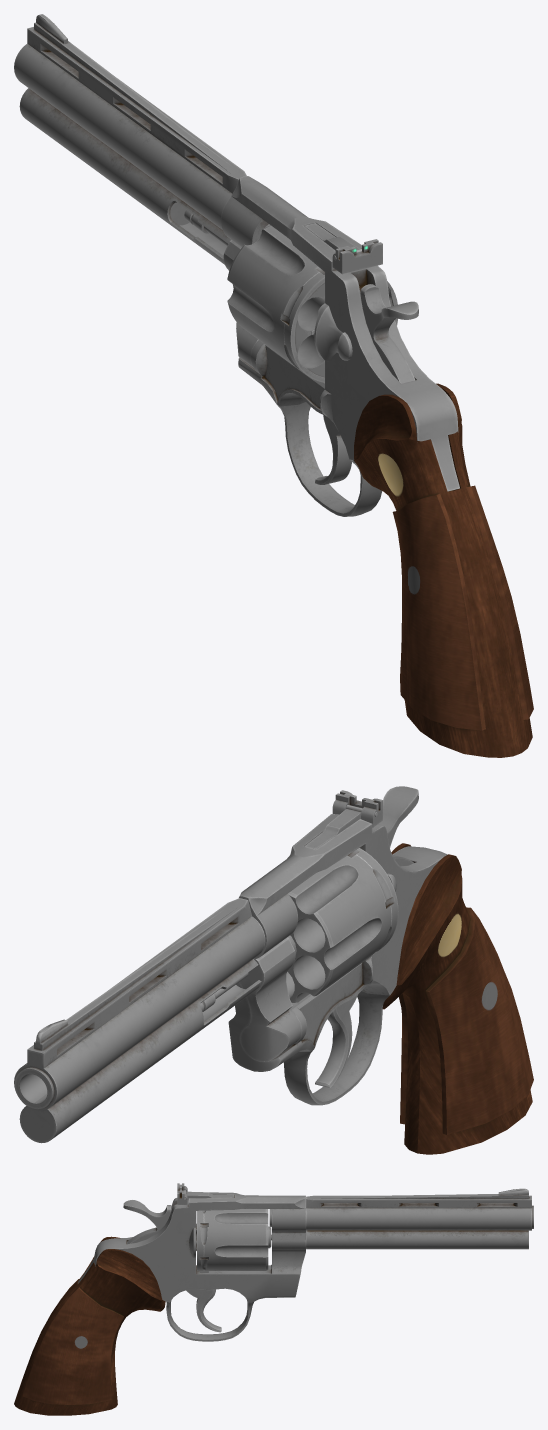
Rendered from revolver.fbx.
3 views of the same model, one above another, from view 1: azimuth 30°, elevation 25°; view 2: azimuth 150°, elevation 25°; view 3: azimuth 270°, elevation 25° (orthographic). The views are drawn at different scales.
Parts seen in each view (by area): view 1: grip_low.001, body_low.001, barrel_low.001, wheel_low.001, Hammer_low.001, sight_low.001, slot_low.001, trigger_low.001, wheel_rot_low.001; view 2: grip_low.001, barrel_low.001, body_low.001, wheel_low.001, wheel_rot_low.001, trigger_low.001, Hammer_low.001, sight_low.001, sight_fixed_low.001; view 3: grip_low.001, barrel_low.001, body_low.001, wheel_low.001, Hammer_low.001, trigger_low.001.
Boxes of the visible parts, x1,y1,x2,y2 form: grip_low.001: (354,383,533,757); body_low.001: (221,176,459,516); barrel_low.001: (14,14,246,264); wheel_low.001: (227,225,397,382); Hammer_low.001: (360,284,418,383); sight_low.001: (332,239,382,274); slot_low.001: (314,303,343,361); trigger_low.001: (315,415,351,484); wheel_rot_low.001: (223,240,258,367); grip_low.001: (382,843,533,1154); barrel_low.001: (14,898,265,1143); body_low.001: (228,814,447,1105); wheel_low.001: (286,848,398,1002); wheel_rot_low.001: (239,937,301,1061); trigger_low.001: (315,994,357,1087); Hammer_low.001: (379,786,418,866); sight_low.001: (332,790,382,827); sight_fixed_low.001: (304,805,362,849); grip_low.001: (14,1236,165,1415); barrel_low.001: (306,1188,533,1249); body_low.001: (78,1192,305,1341); wheel_low.001: (197,1209,268,1270); Hammer_low.001: (123,1200,171,1244); trigger_low.001: (186,1289,221,1332).
Bounding box in the file's own units: 3.76 × 13.26 × 28.94.
